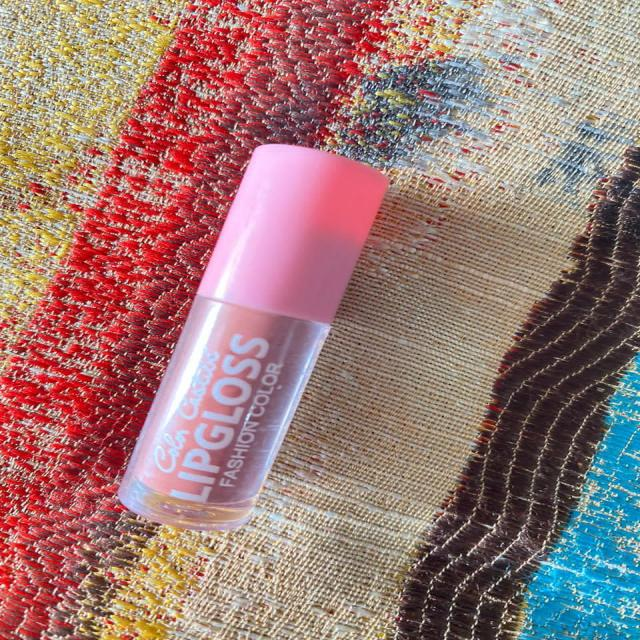lip gloss: (97, 134, 416, 550)
